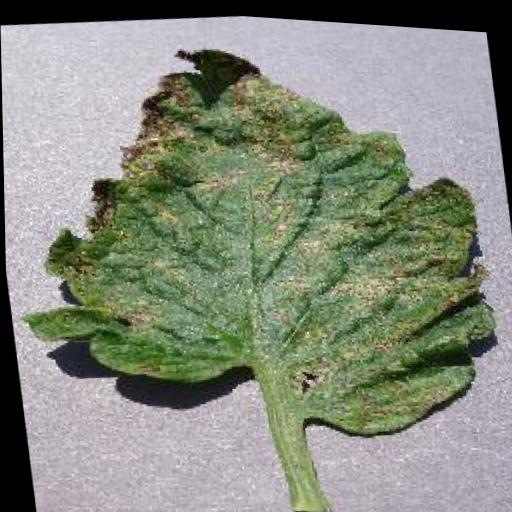Septoria: (0, 11, 507, 476)
